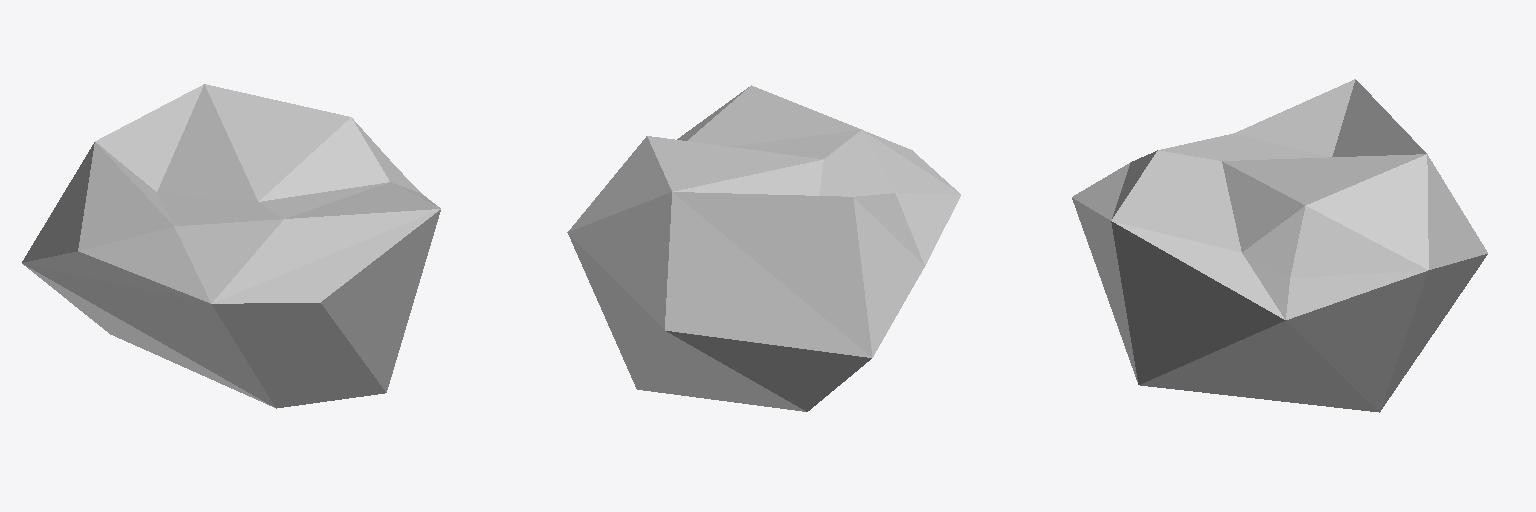
The model's file is SM_Prop_Lettuce_01_S.obj.
3 views of the same model, side by side, from view 1: azimuth 30°, elevation 25°; view 2: azimuth 150°, elevation 25°; view 3: azimuth 270°, elevation 25° (orthographic).
Size of the model in its own units: 15.21 by 10.02 by 16.19.